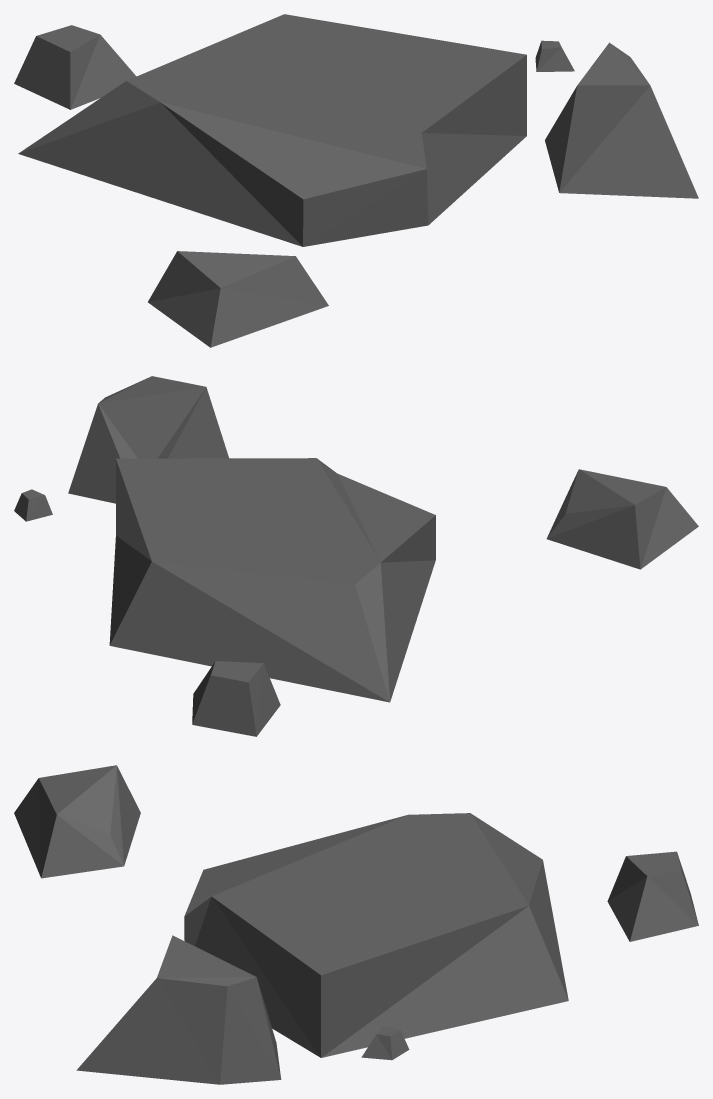
File: Stone_Rail_12.FBX
3 views of the same model, one above another, from view 1: azimuth 30°, elevation 25°; view 2: azimuth 150°, elevation 25°; view 3: azimuth 270°, elevation 25° (orthographic). The views are drawn at different scales.
Visible parts, largest first — view 1: Stone_Rail_12; view 2: Stone_Rail_12; view 3: Stone_Rail_12.
Boxes of the visible parts, bbox=[...] form: Stone_Rail_12: bbox=[14, 14, 698, 347]; Stone_Rail_12: bbox=[14, 376, 698, 736]; Stone_Rail_12: bbox=[14, 765, 698, 1084].
Size of the model in its own units: 1.06 by 0.2022 by 1.13.
